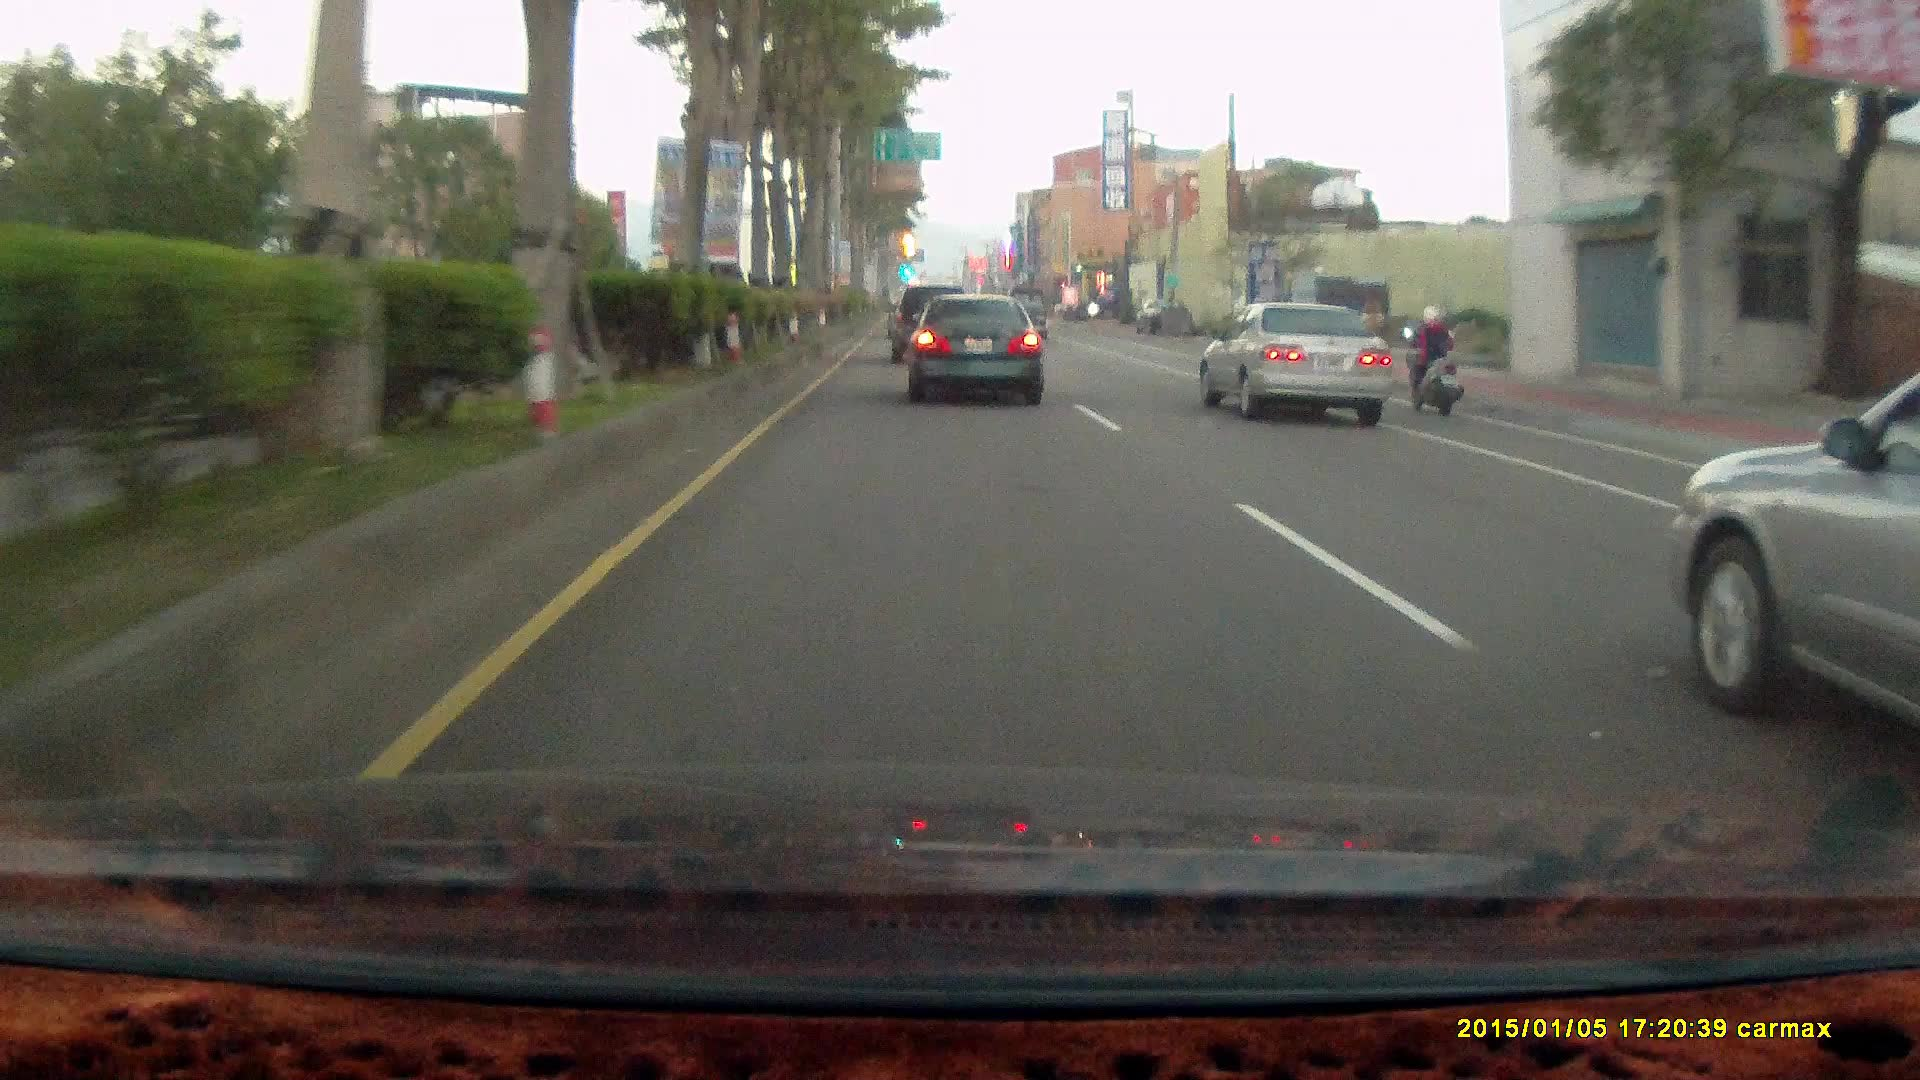rider: (1391, 293, 1472, 427), (1399, 301, 1464, 415)
vehicle: (1679, 371, 1920, 767), (1194, 300, 1391, 425), (1206, 302, 1396, 426), (904, 293, 1044, 405), (903, 293, 1042, 400), (1280, 277, 1390, 367), (889, 282, 972, 364), (890, 286, 972, 367), (1003, 288, 1049, 341), (1086, 286, 1144, 321)
